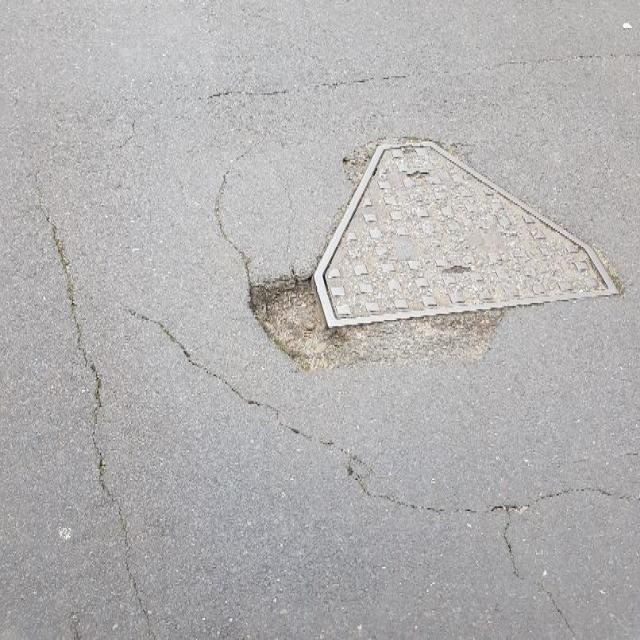Pothole: (246, 276, 507, 380)
